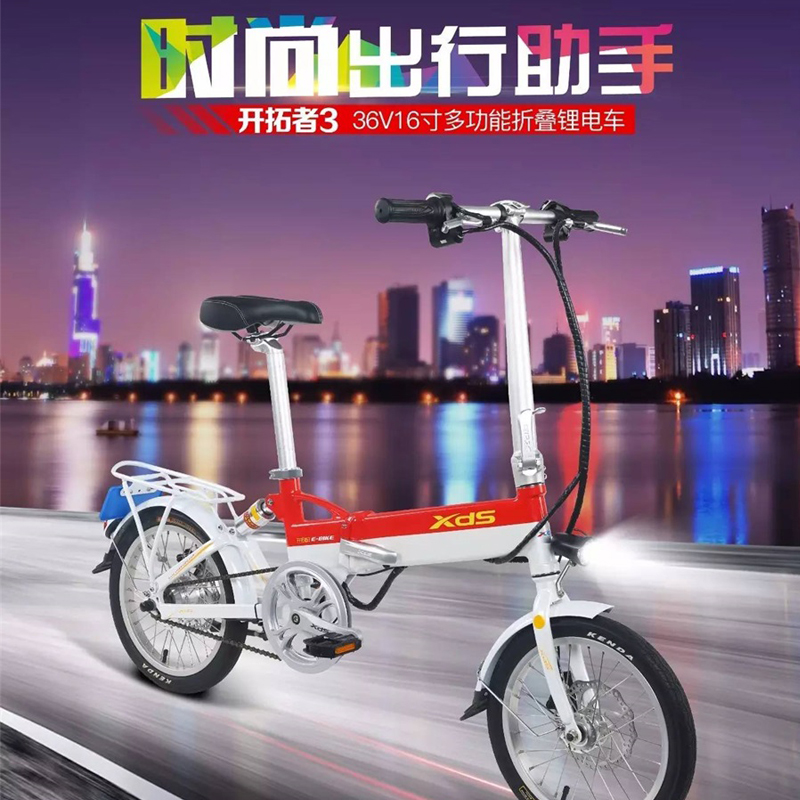电动车: (82, 187, 706, 800)
